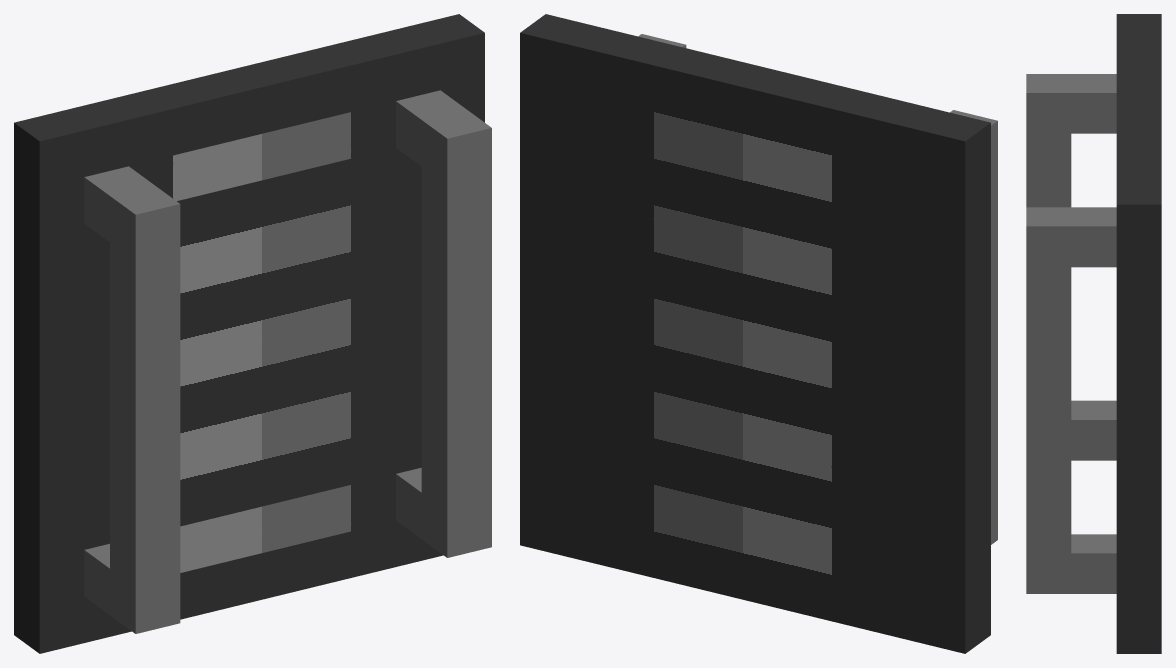
File: VentHandles.fbx
3 views of the same model, side by side, from view 1: azimuth 30°, elevation 25°; view 2: azimuth 150°, elevation 25°; view 3: azimuth 270°, elevation 25° (orthographic). The views are drawn at different scales.
Visible parts, largest first — view 1: Matrix; view 2: Matrix; view 3: Matrix.
Part boxes in pixels (x1=…): Matrix: x1=14, y1=14, x2=491, y2=653; Matrix: x1=520, y1=14, x2=997, y2=653; Matrix: x1=1026, y1=14, x2=1161, y2=653.
Bounding box in the file's own units: 10 × 11 × 3.
